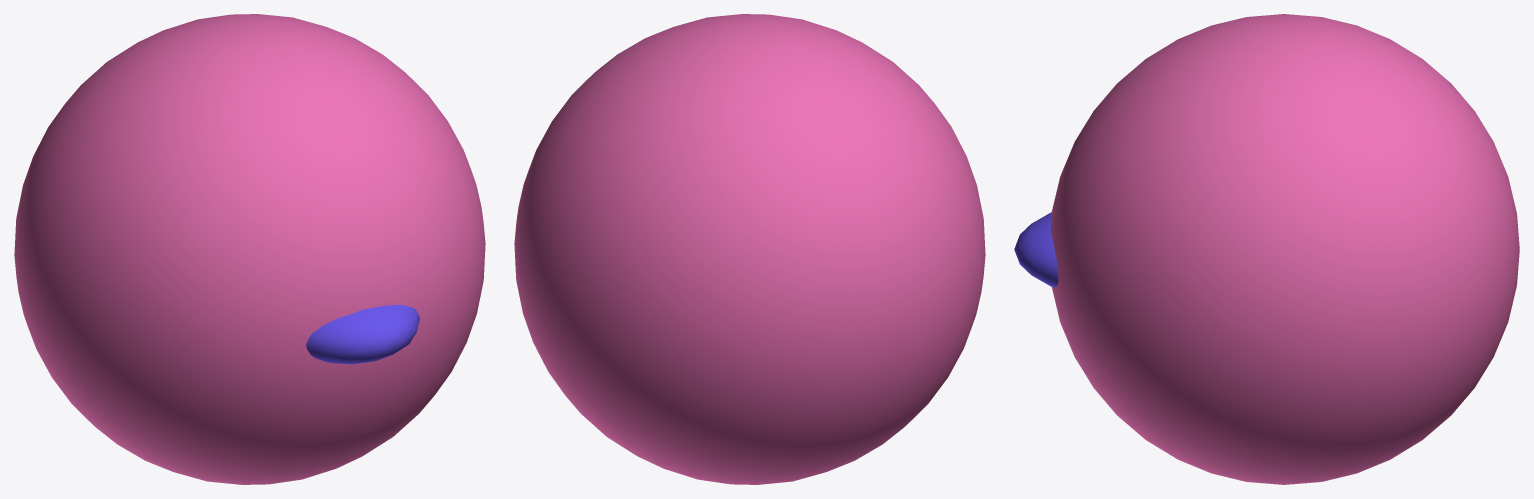
File: Chick Base.fbx
The picture shows the model from 3 angles, left to right: view 1: azimuth 30°, elevation 25°; view 2: azimuth 150°, elevation 25°; view 3: azimuth 270°, elevation 25°; orthographic projection.
Visible parts, largest first — view 1: Chick; view 2: Chick; view 3: Chick.
Part boxes in pixels (x1,y1,x2,y2): Chick: [14, 14, 485, 484]; Chick: [514, 14, 985, 484]; Chick: [1014, 14, 1519, 484].
Size of the model in its own units: 2 by 2 by 2.15.
